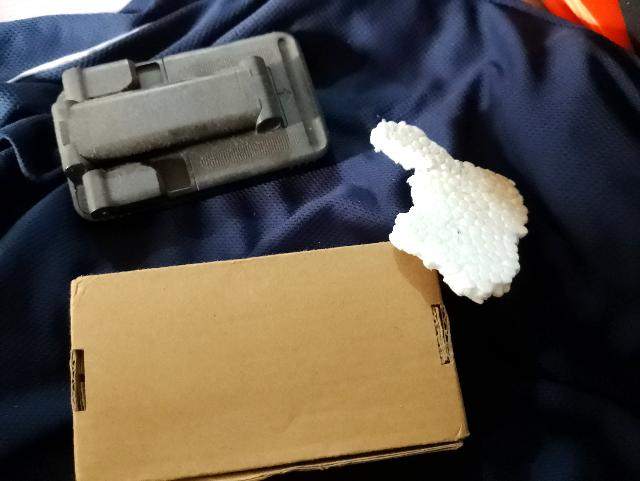cocksheet: (395, 114, 528, 304)
